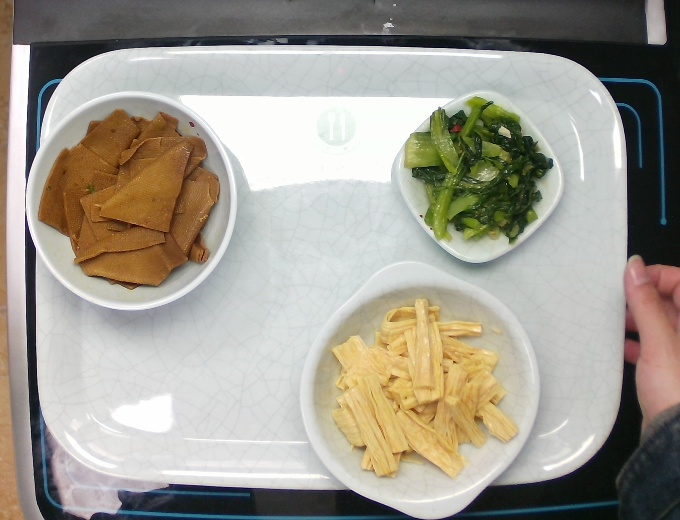JYsf-Fan_Wan: (24, 90, 240, 315)
JYsf-Shuang_Er_Wan: (296, 257, 542, 520)
JYsf-Si_Fang_Die: (390, 88, 565, 264)
